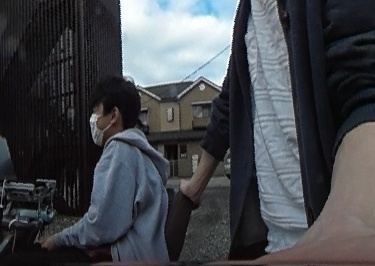person: (86, 73, 170, 266)
